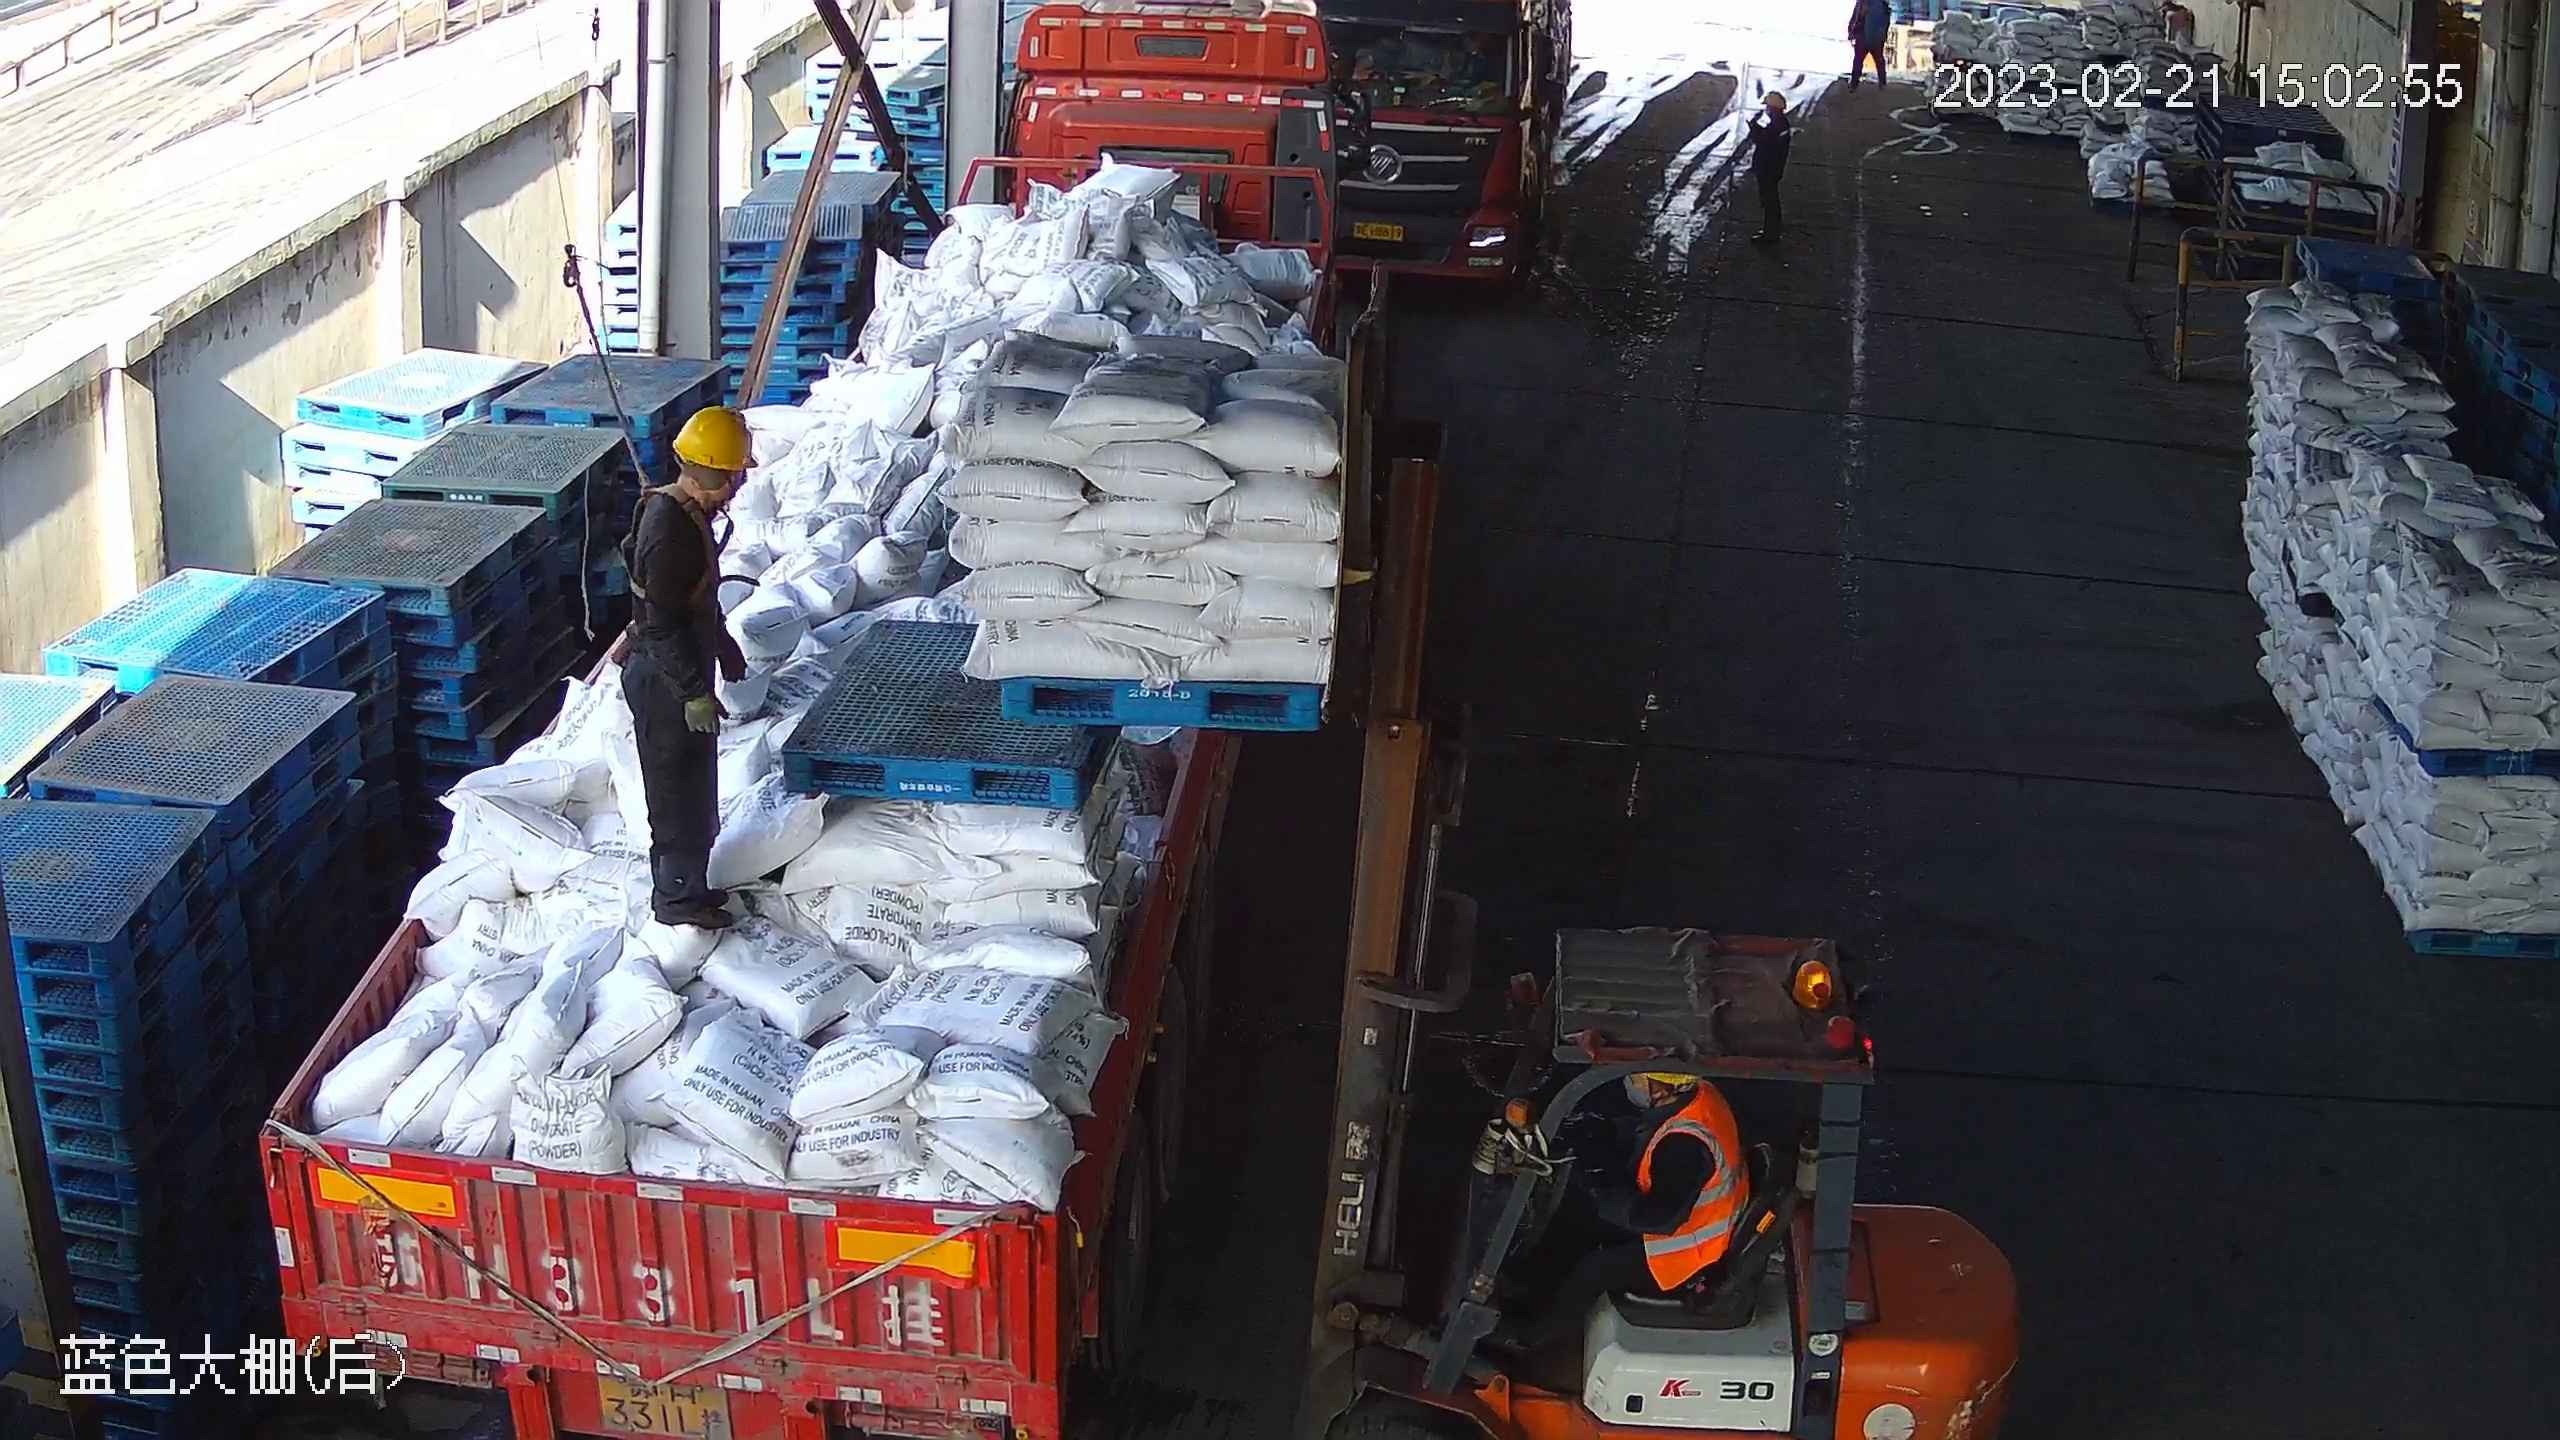belt: (601, 462, 744, 619)
head: (631, 405, 761, 552), (1594, 1067, 1746, 1175)
helmet: (671, 404, 761, 474)
people: (1463, 1061, 1760, 1374), (618, 404, 761, 932)
truck: (246, 3, 1361, 1440)
